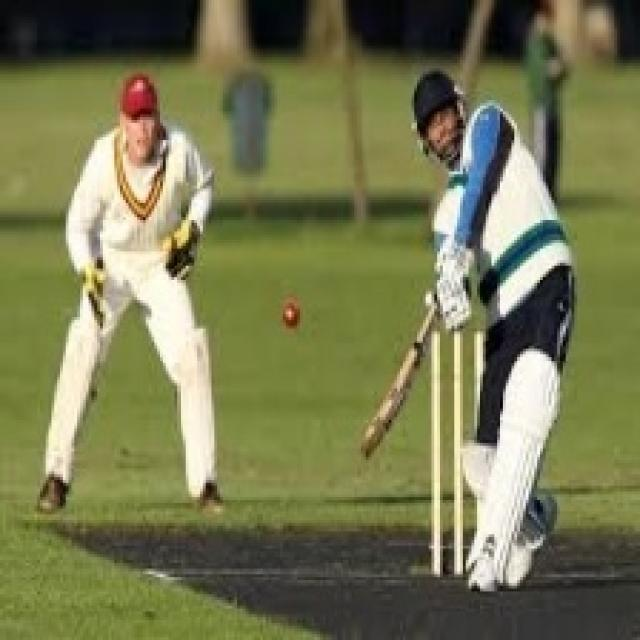batsman: (339, 42, 581, 596)
wicket: (426, 330, 504, 584)
